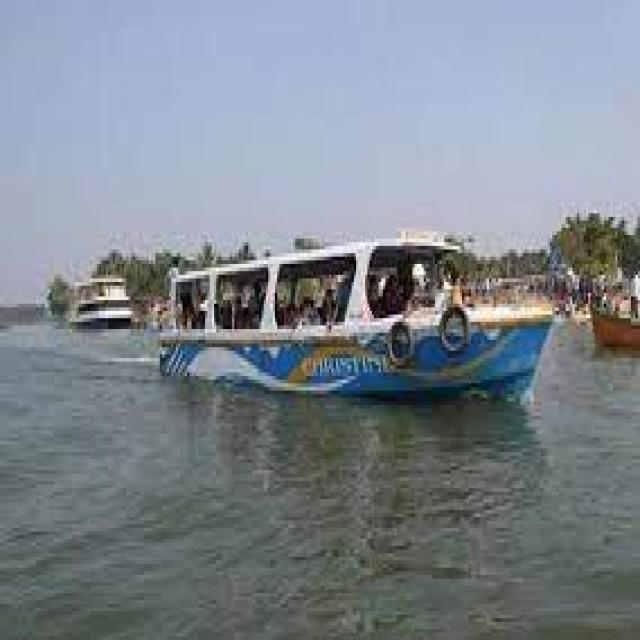houseboat: (49, 260, 140, 340)
passenger ship: (152, 222, 554, 392)
